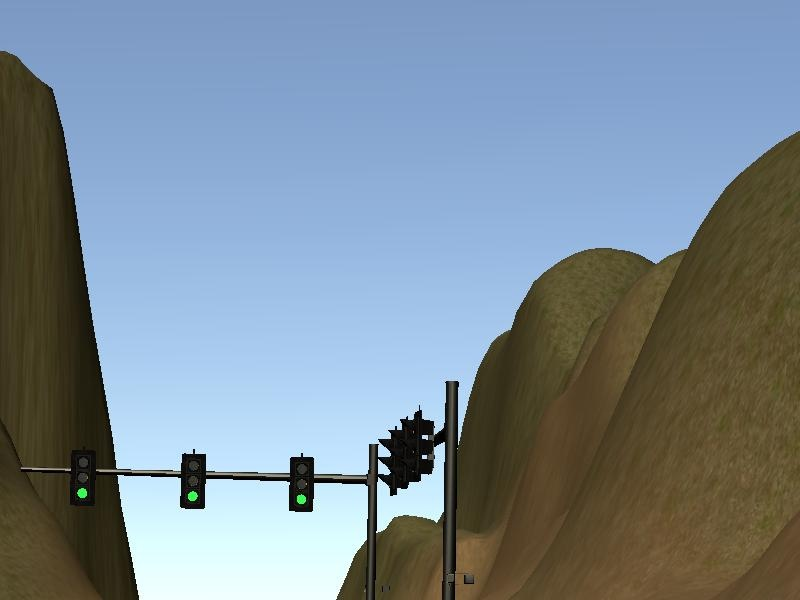green: (72, 448, 98, 508), (290, 457, 314, 512), (180, 454, 204, 506)
